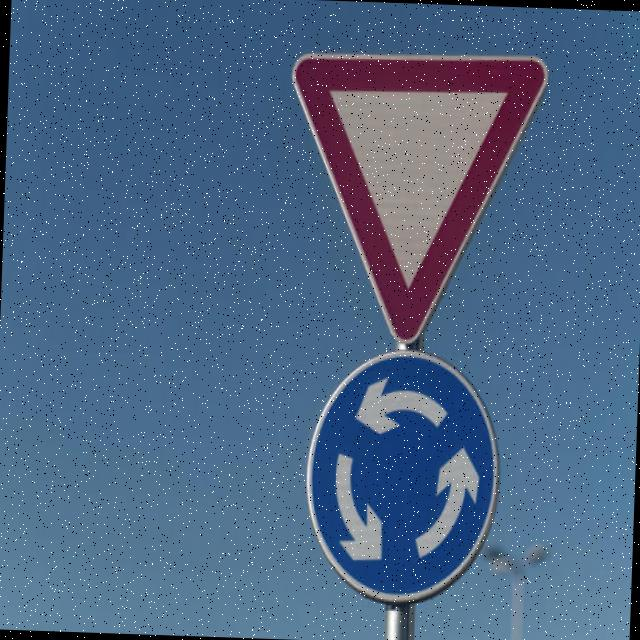round_about: (297, 344, 508, 614)
